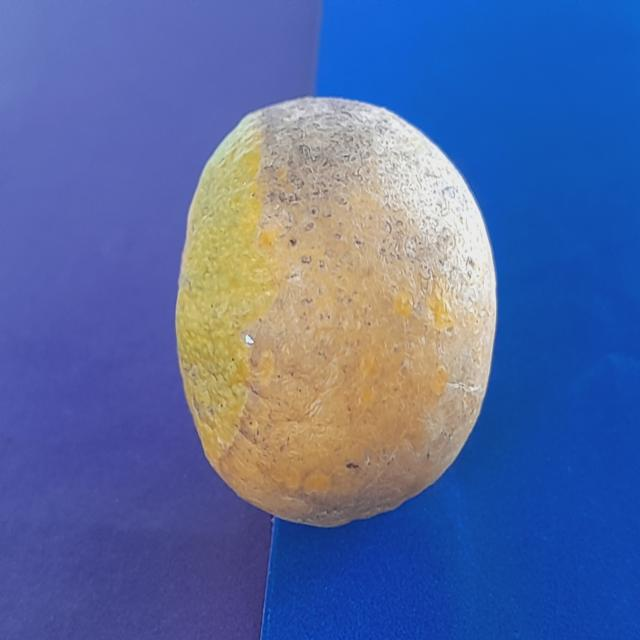thrips: (177, 81, 503, 544)
